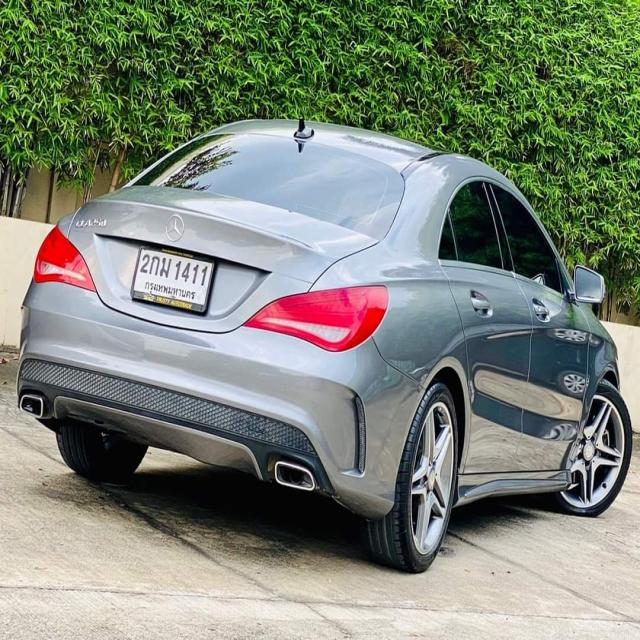license_plate: (131, 236, 217, 318)
